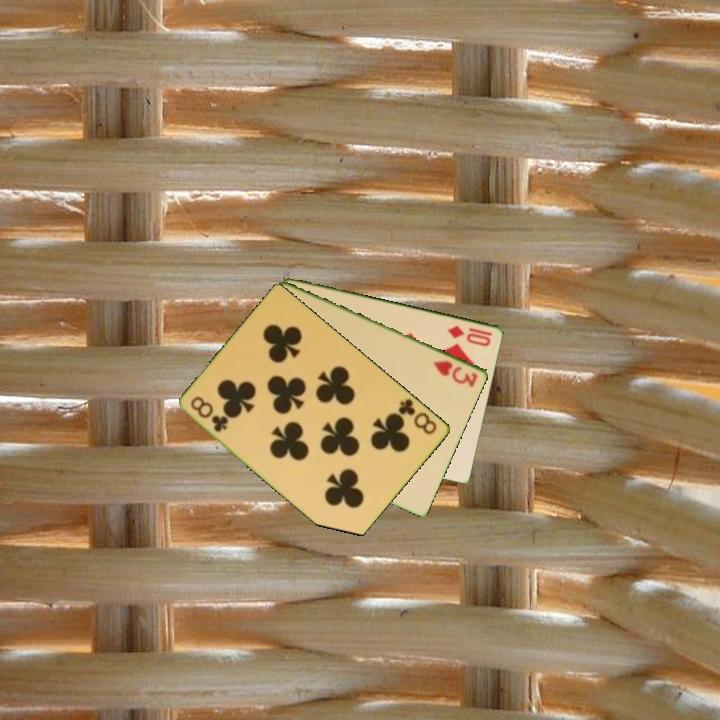10d: (444, 322, 496, 349)
3h: (430, 357, 481, 390)
8c: (395, 395, 440, 438), (187, 392, 232, 435)
